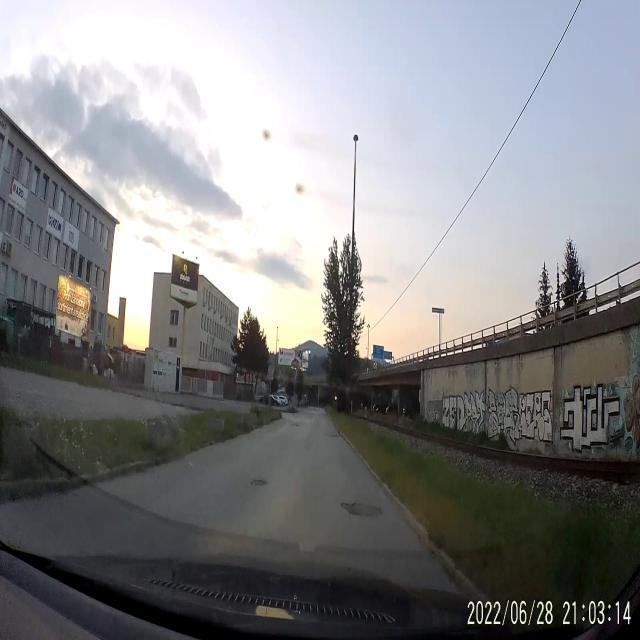Pothole: (338, 498, 384, 520), (248, 476, 270, 488)
